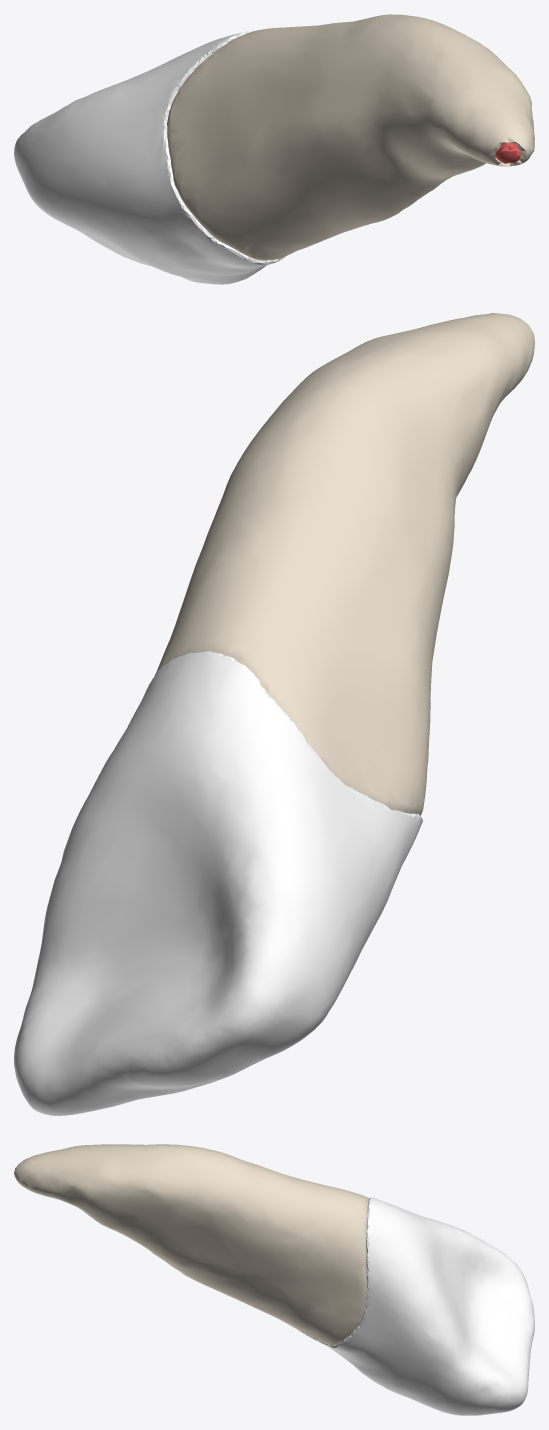
File: 乳牙上颌侧切牙.fbx
3 renders of one model, top to bottom at view 1: azimuth 30°, elevation 25°; view 2: azimuth 150°, elevation 25°; view 3: azimuth 270°, elevation 25°, orthographic. The views are drawn at different scales.
Visible parts, largest first — view 1: texture_B, texture_W, texture_S; view 2: texture_W, texture_B; view 3: texture_B, texture_W.
Boxes of the visible parts, x1,y1,x2,y2 form: texture_B: (167, 14, 534, 260); texture_W: (14, 30, 285, 284); texture_S: (495, 142, 520, 163); texture_W: (14, 650, 422, 1115); texture_B: (154, 313, 534, 815); texture_B: (14, 1144, 369, 1345); texture_W: (298, 1197, 534, 1415).
Size of the model in its own units: 9.86 by 14.92 by 25.83.
Materials: 3 (3 with a texture image).
